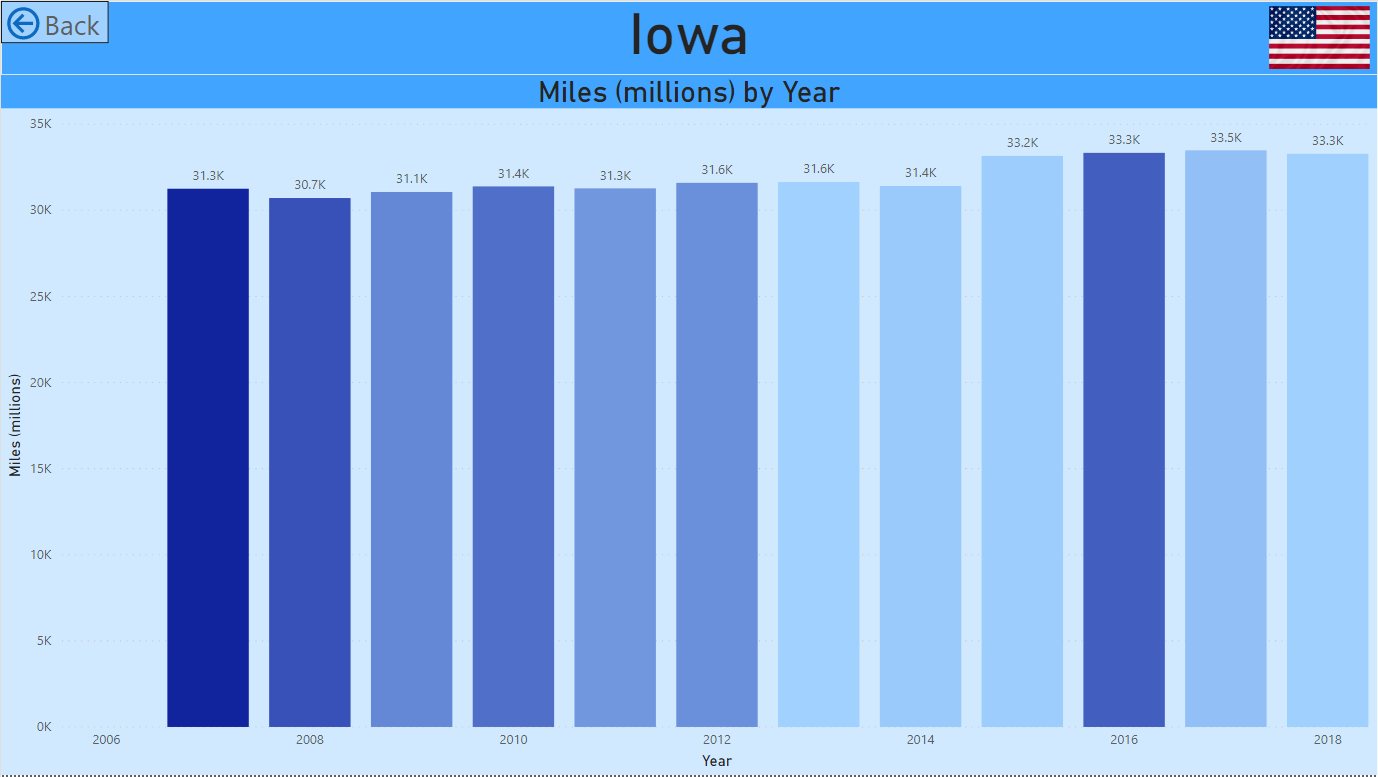

What the dashboard file says about the page in this screenshot:
{"tool":"powerbi","page":{"name":"Drillthrough - Miles Driven","canvas":[1280,720],"ordinal":2},"visuals":[{"type":"card","fields":{"Values":["Min(PA - Driving Safety.State)"]},"box":[0,0,1280,68.6],"z":0},{"type":"clusteredColumnChart","fields":{"Category":["PA - Driving Safety.Year"],"Y":["Sum(PA - Driving Safety.Miles (millions))"]},"box":[0,68.3,1280,651.7],"z":1000},{"type":"actionButton","box":[0,0,100,39.5],"z":2000},{"type":"image","box":[1173,0,107,68.6],"z":3000}]}

Visuals, with their boxes in screenshot pixels (x1, y1, x2, y2), scaled from the page's 1280x720 canvas onto the 1378x777 screenshot:
card - Min(PA - Driving Safety.State): [left=0, top=0, right=1377, bottom=74]
clusteredColumnChart - PA - Driving Safety.Year x Sum(PA - Driving Safety.Miles (millions)): [left=0, top=74, right=1377, bottom=776]
actionButton: [left=0, top=0, right=108, bottom=43]
image: [left=1263, top=0, right=1377, bottom=74]
